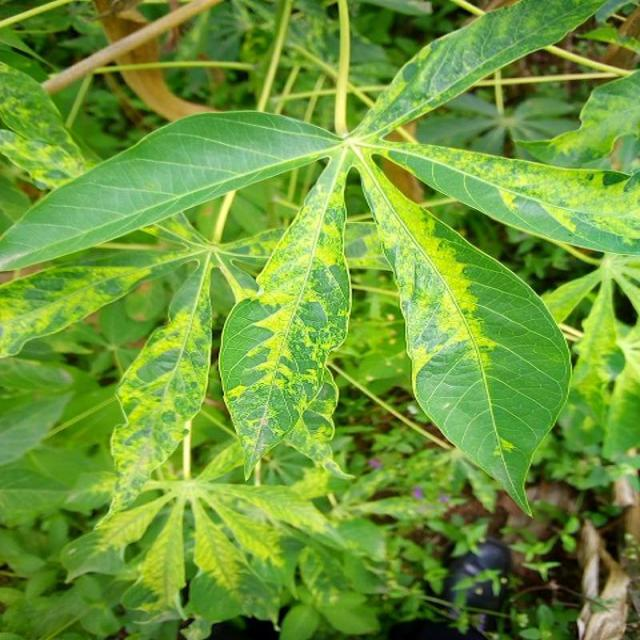cassava leaf: (351, 144, 573, 517), (0, 108, 344, 272), (218, 146, 352, 482)
